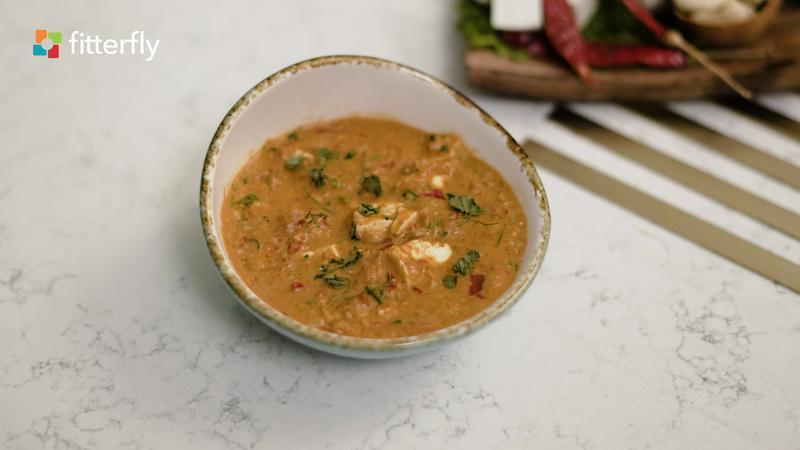paneer: (315, 193, 446, 279)
